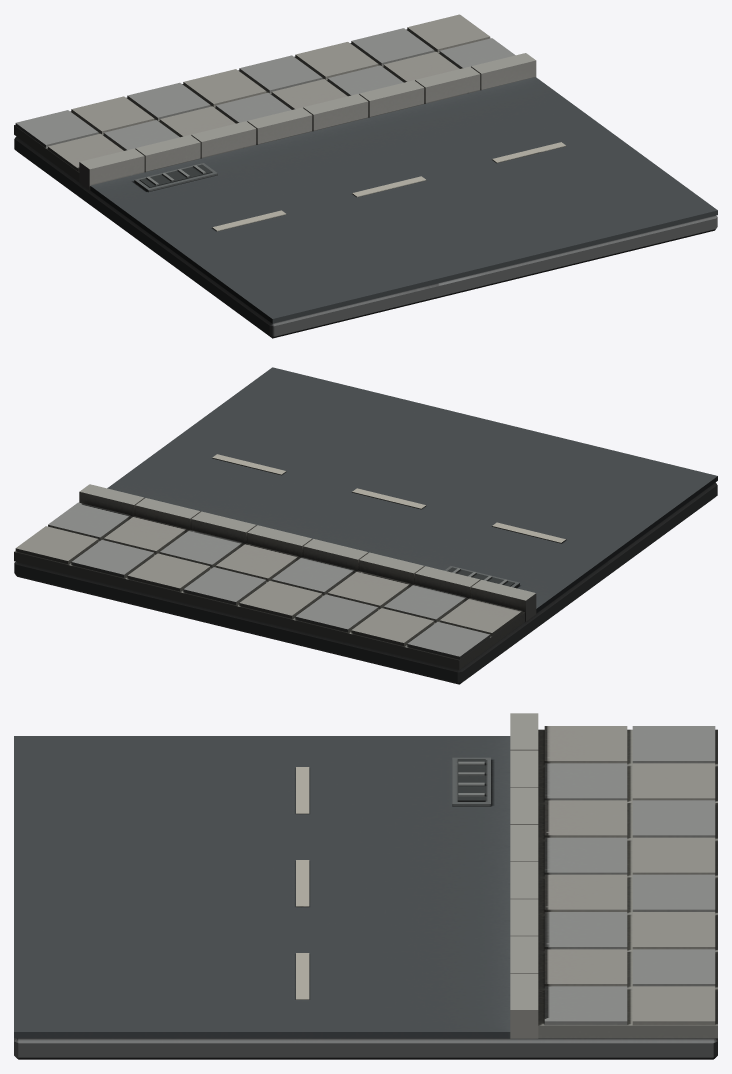
The model's file is 0-20261016-1900-ev069-r12-town-streettile_baked.glb.
The picture shows the model from 3 angles, top to bottom: view 1: azimuth 30°, elevation 25°; view 2: azimuth 150°, elevation 25°; view 3: azimuth 270°, elevation 25°; orthographic projection. The views are drawn at different scales.
Parts seen in each view (by area): view 1: SW_Town_StreetTile; view 2: SW_Town_StreetTile; view 3: SW_Town_StreetTile.
Part boxes in pixels (x1,y1,x2,y2): SW_Town_StreetTile: (14, 14, 717, 338); SW_Town_StreetTile: (14, 367, 717, 684); SW_Town_StreetTile: (14, 713, 717, 1059).
Size of the model in its own units: 4 by 0.32 by 4.
1 material, 1 textured.
